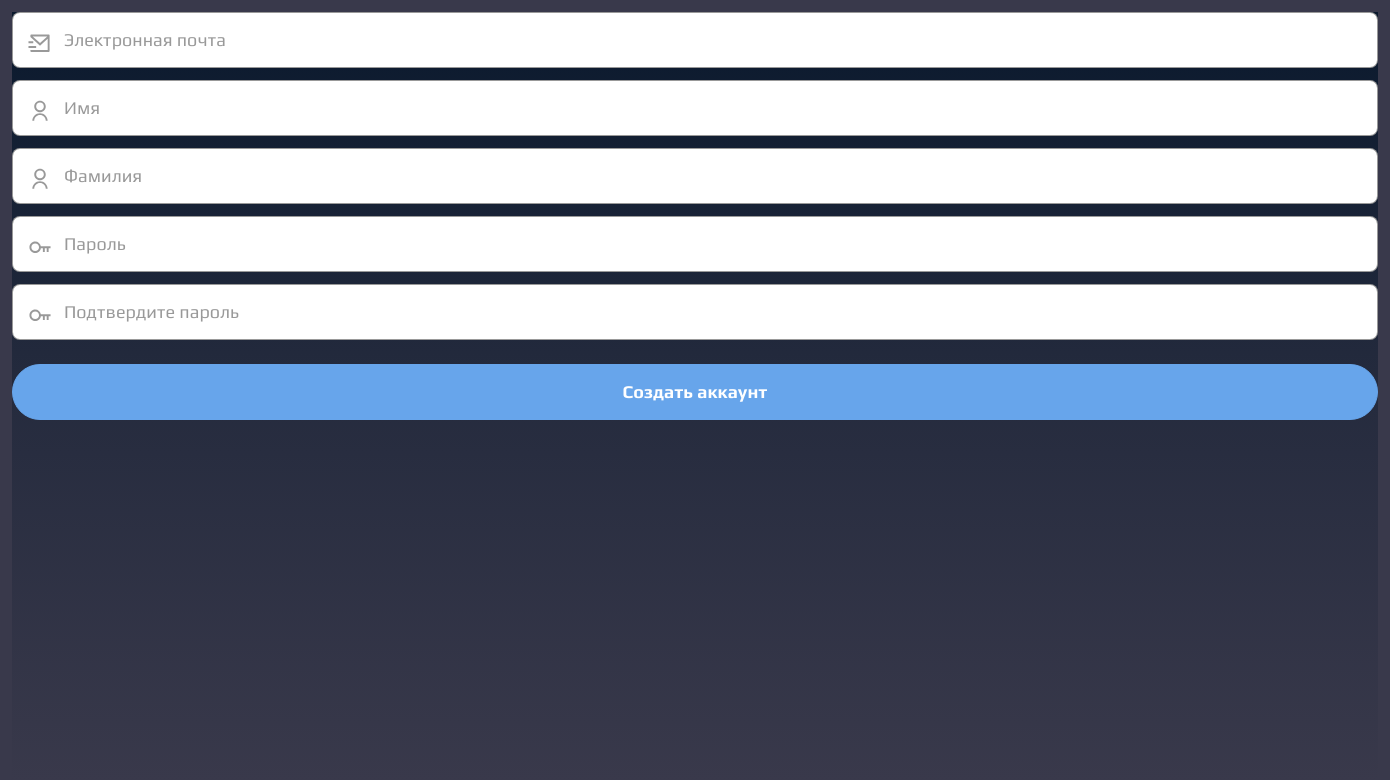
Scenario: RegisterForm › Отображение ошибки при вводе пустого поля name
The width and height of the screenshot is (1390, 780).
Step 1. Type "user@mail.ru" into the field with placeholder "Электронная почта" → (695, 40), box [12,12,1378,68]
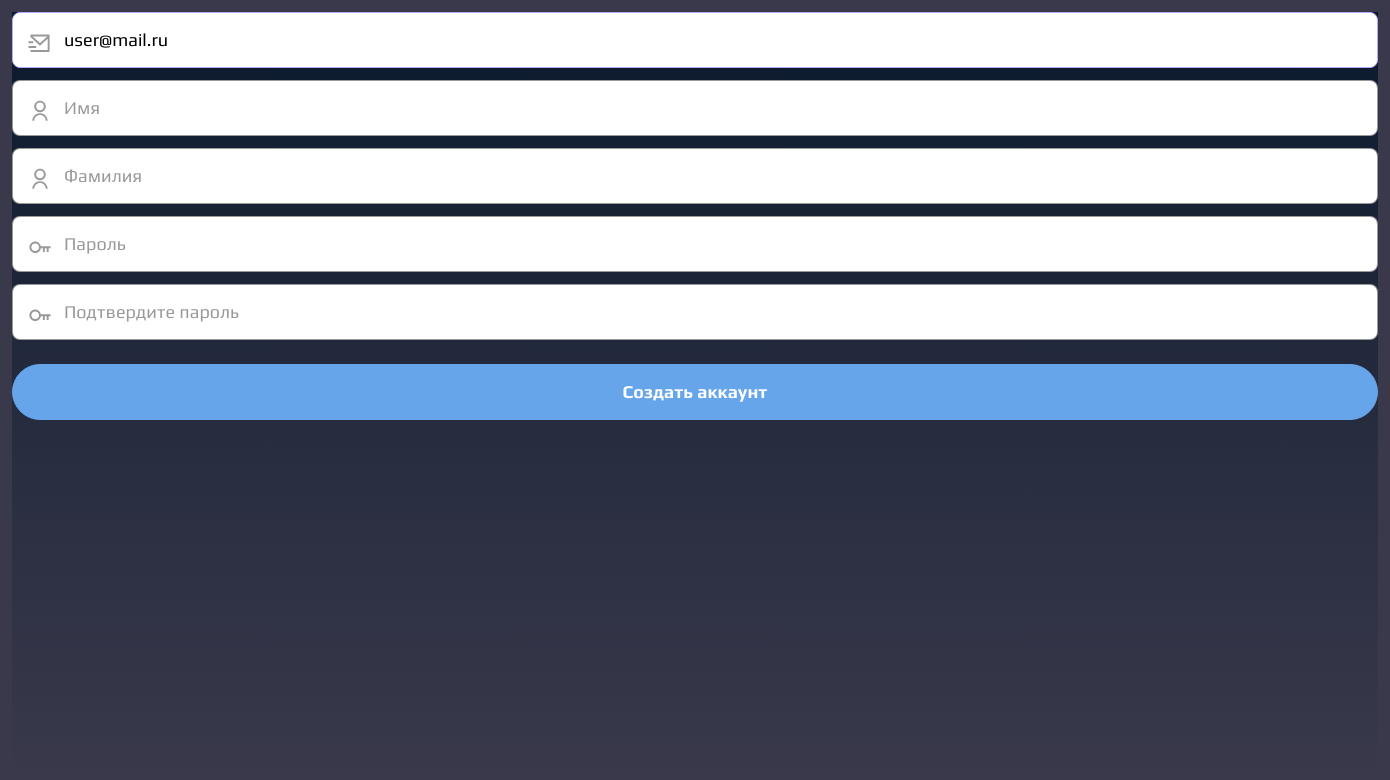
Step 2. Clear the field with placeholder "Имя" → (695, 108), box [12,80,1378,136]
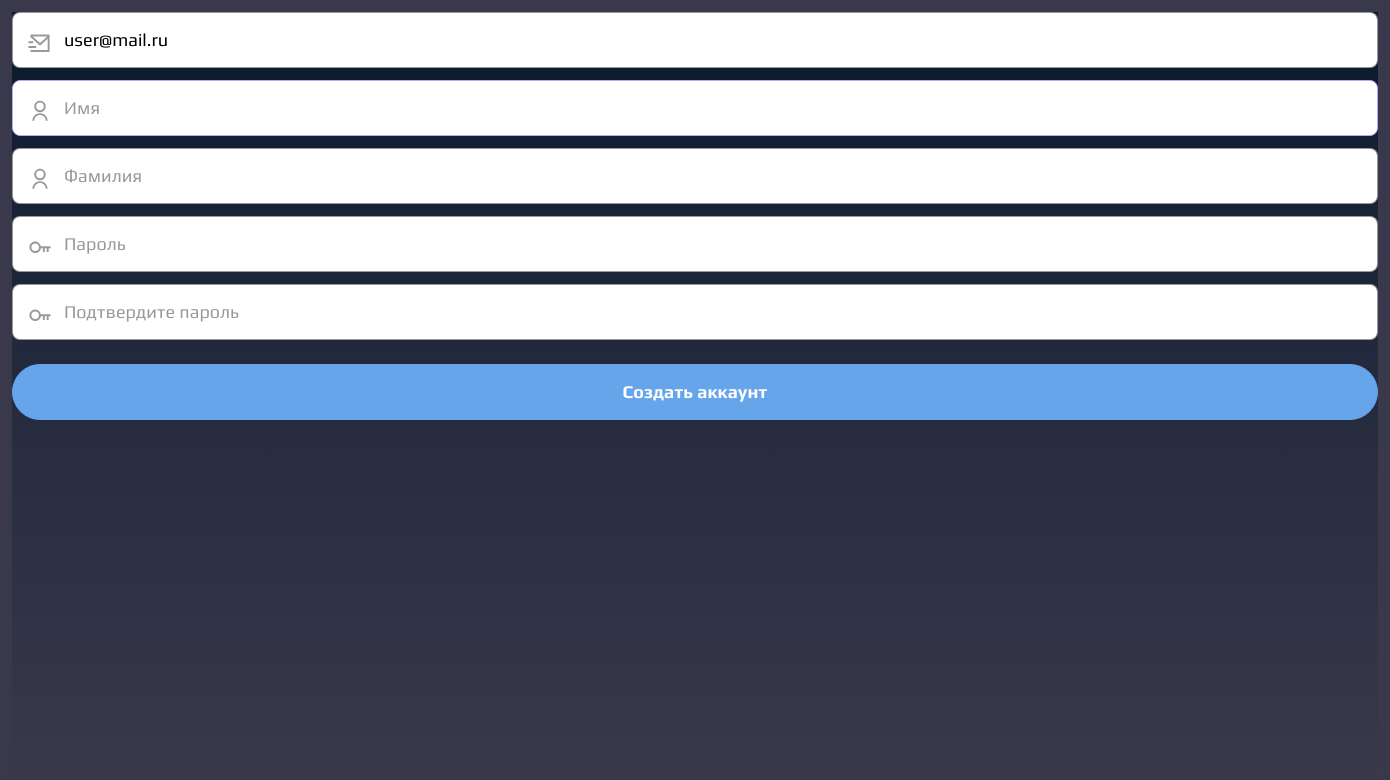
Step 3. Type "surname" into the field with placeholder "Фамилия" → (695, 176), box [12,148,1378,204]
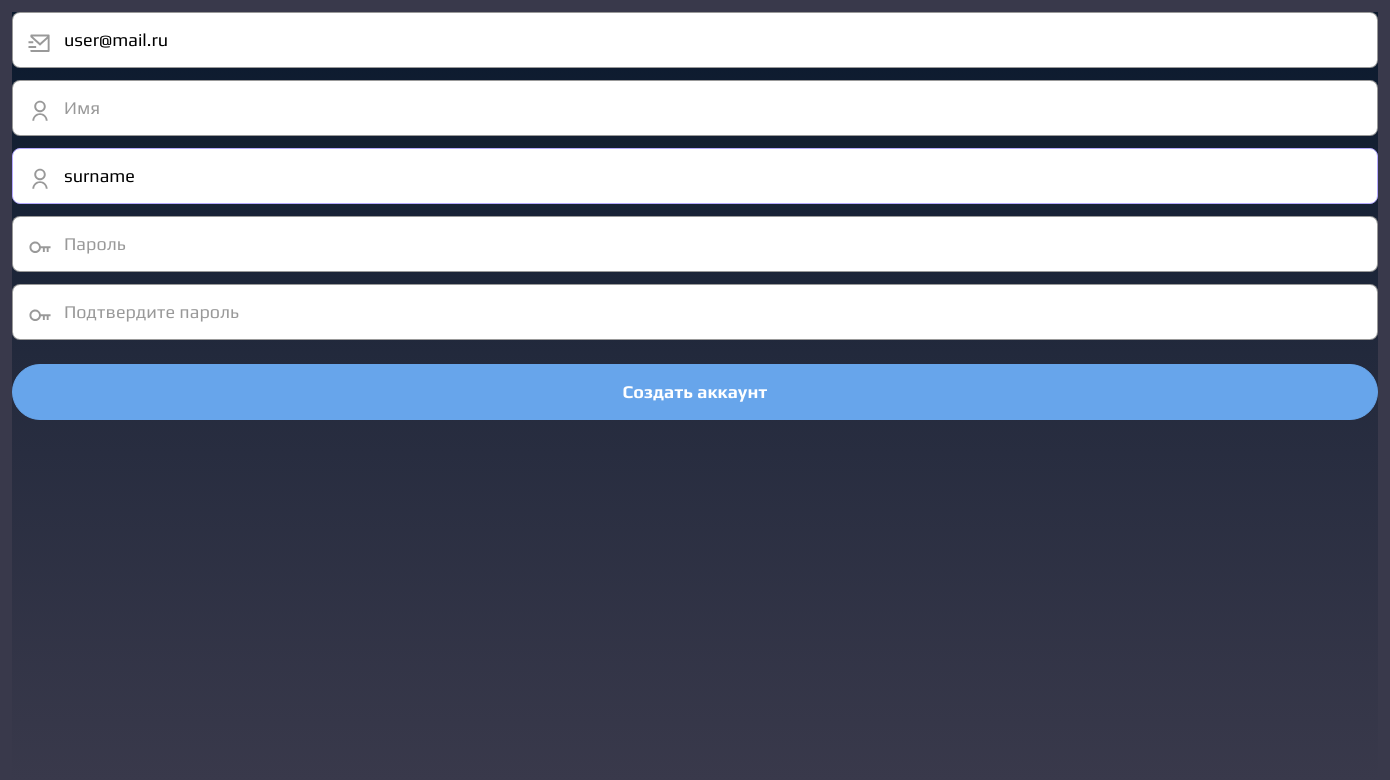
Step 4. Type "validPassword" into the password field with placeholder "Пароль" → (695, 244), box [12,216,1378,272]
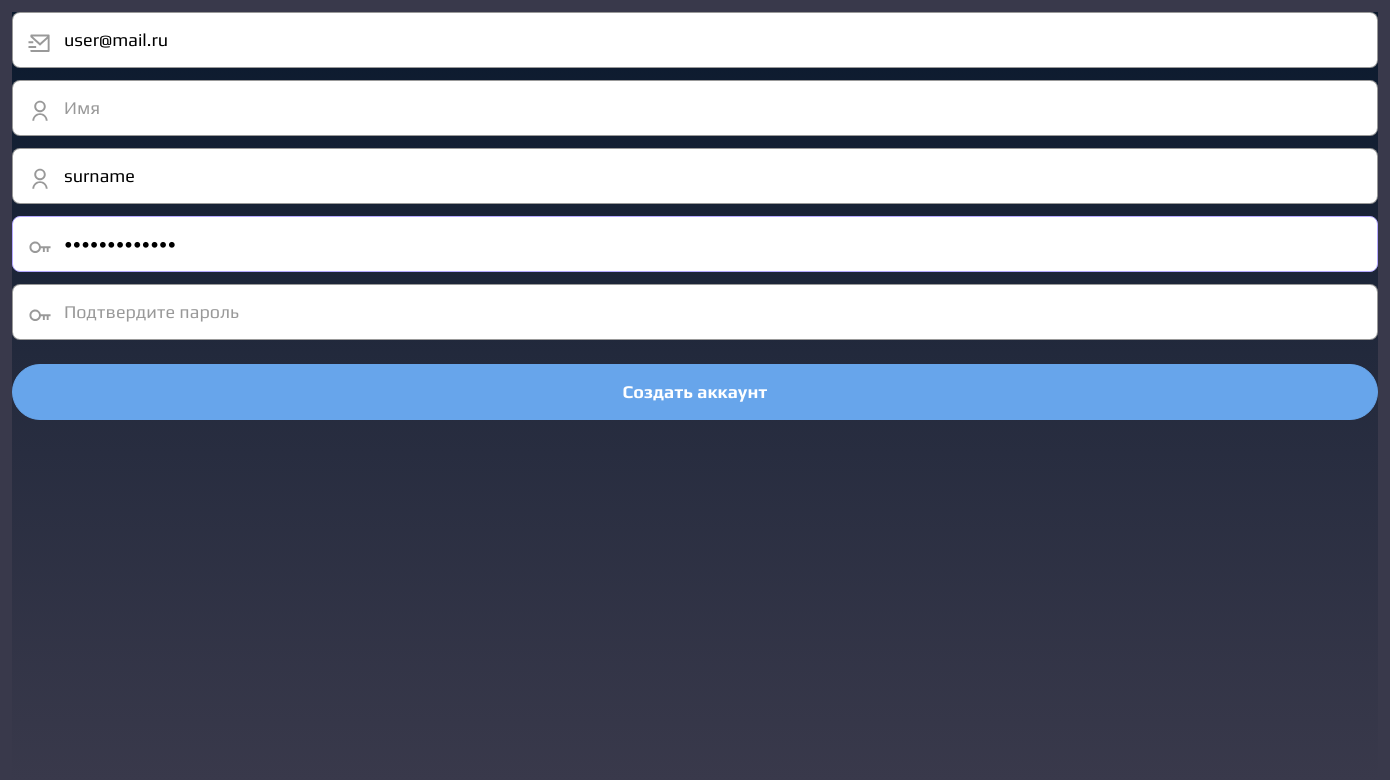
Step 5. Type "validPassword" into the password field with placeholder "Подтвердите пароль" → (695, 312), box [12,284,1378,340]
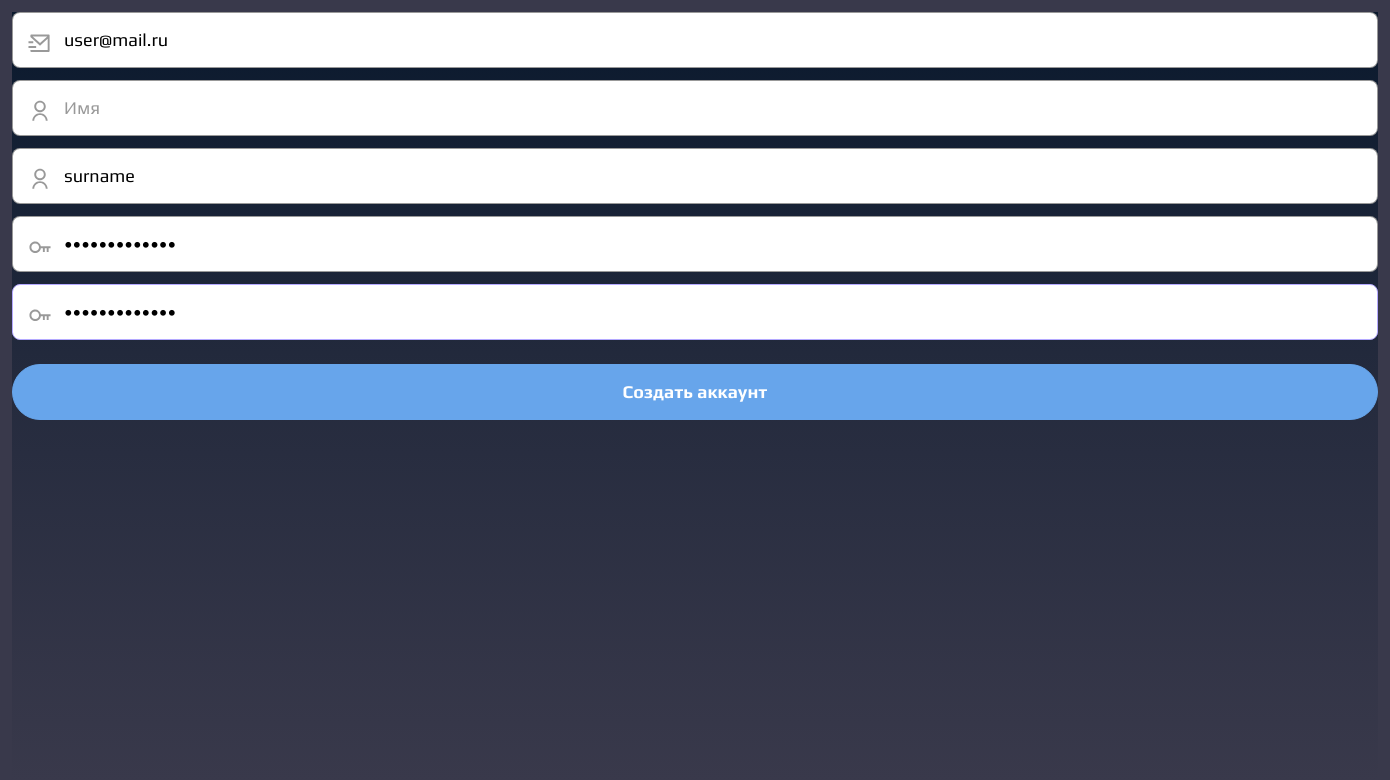
Step 6. Click the button "Создать аккаунт" → (695, 392), box [12,364,1378,420]
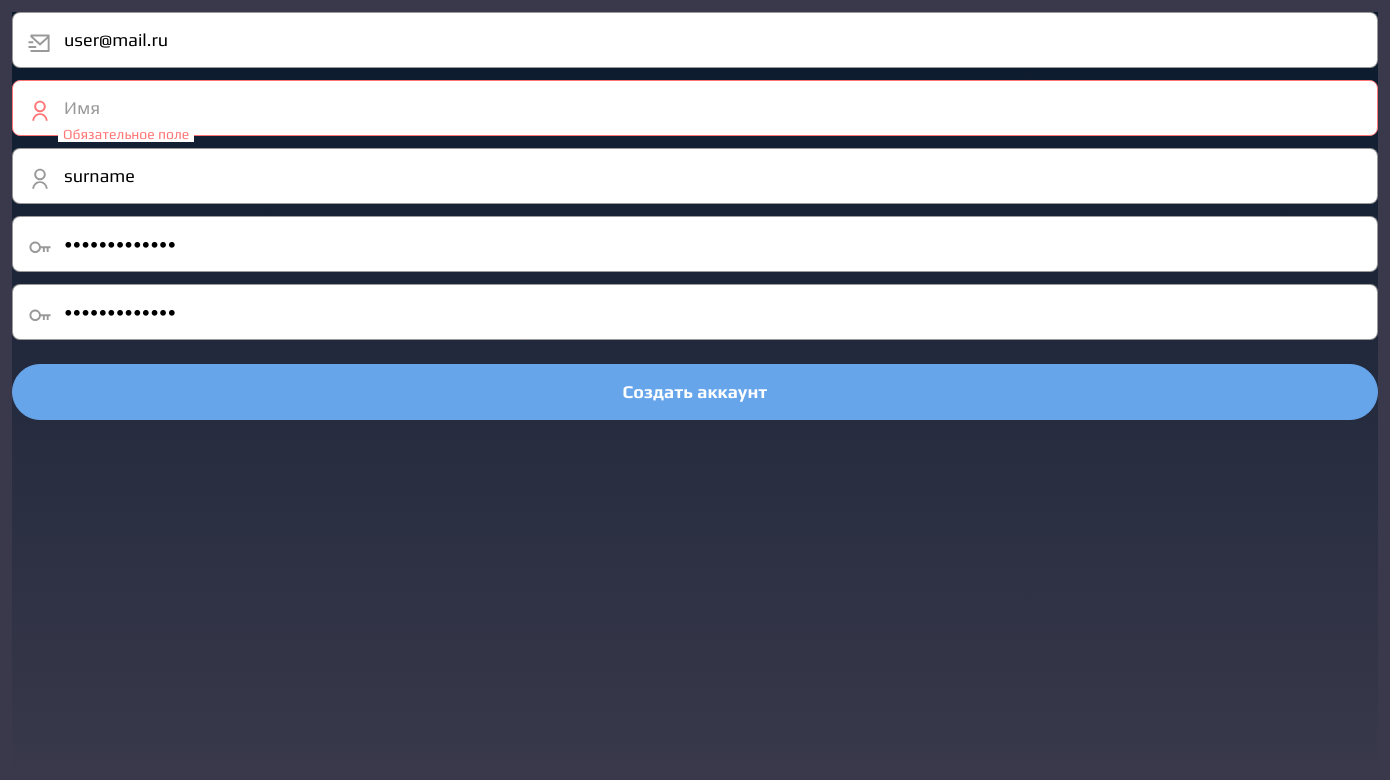
Expected: the text "Обязательное поле" is shown, [58,126,194,142]
